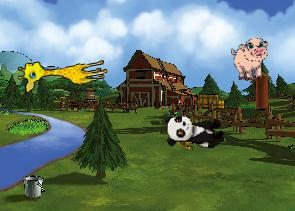giraffe: (15, 48, 109, 94)
panda: (164, 114, 225, 148)
pig: (230, 37, 272, 82)
